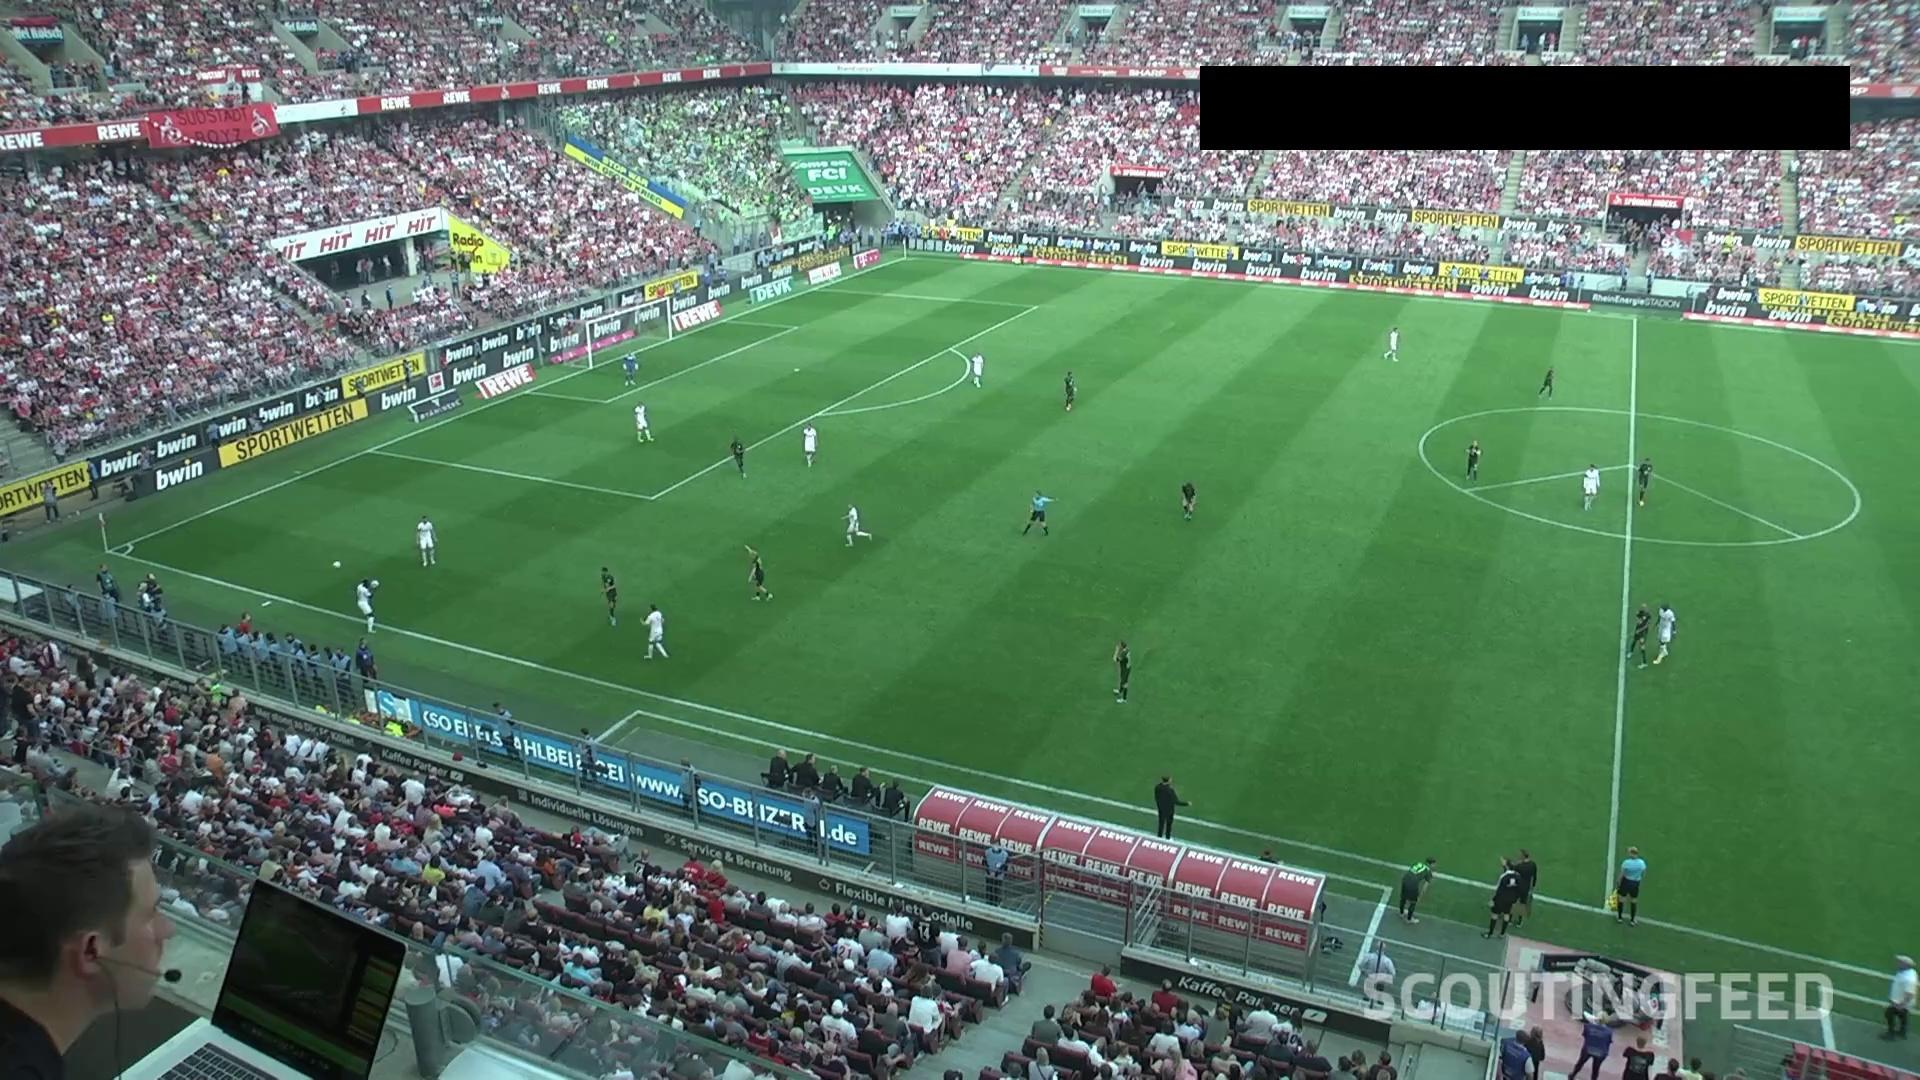Location-of-ball: (367, 576, 388, 595)
